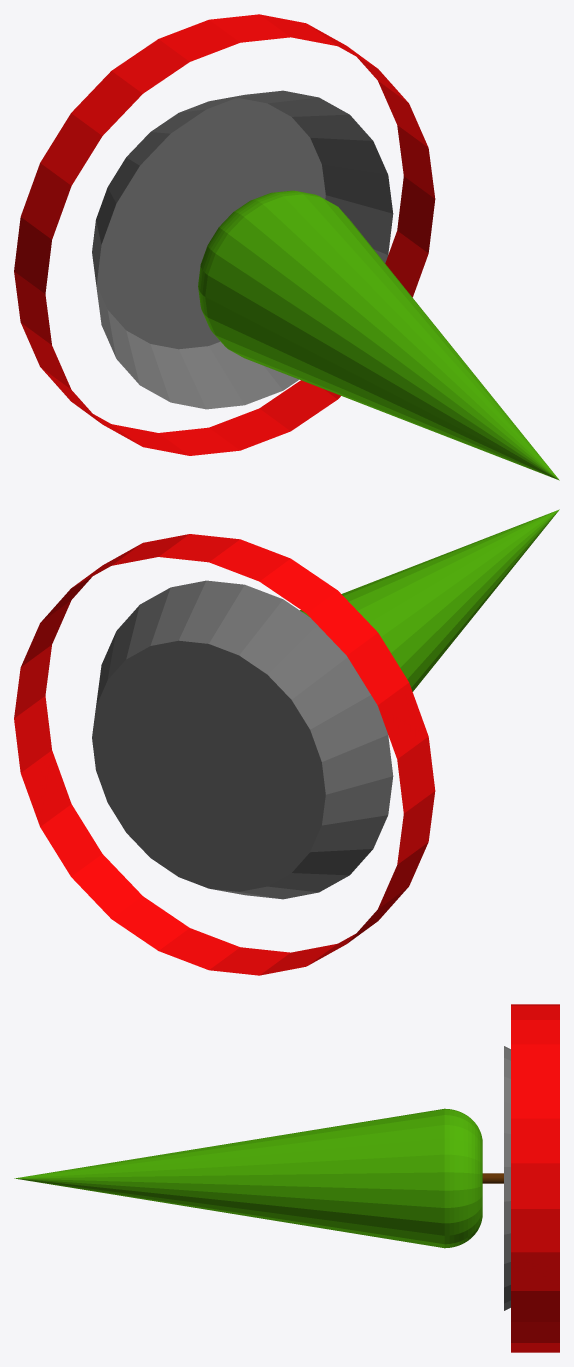
Rendered from HPK7m.obj.
3 views of the same model, one above another, from view 1: azimuth 30°, elevation 25°; view 2: azimuth 150°, elevation 25°; view 3: azimuth 270°, elevation 25° (orthographic). The views are drawn at different scales.
Bounding box in the file's own units: 5 × 5 × 7.8.
